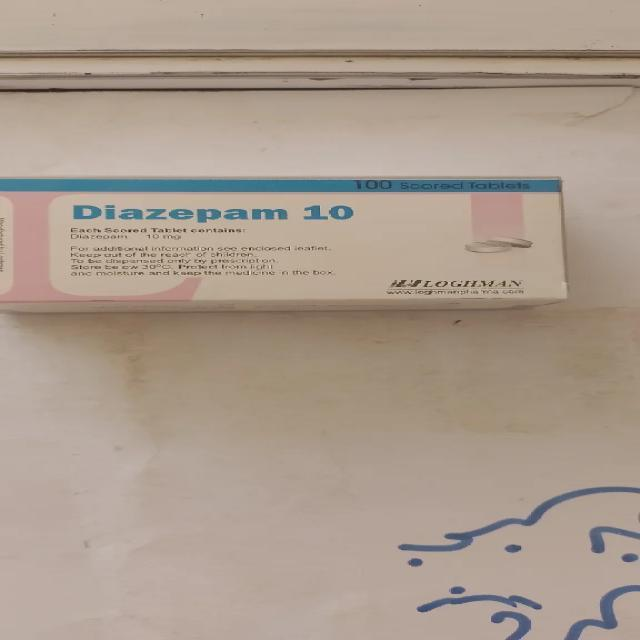drug-name: (74, 202, 354, 224)
